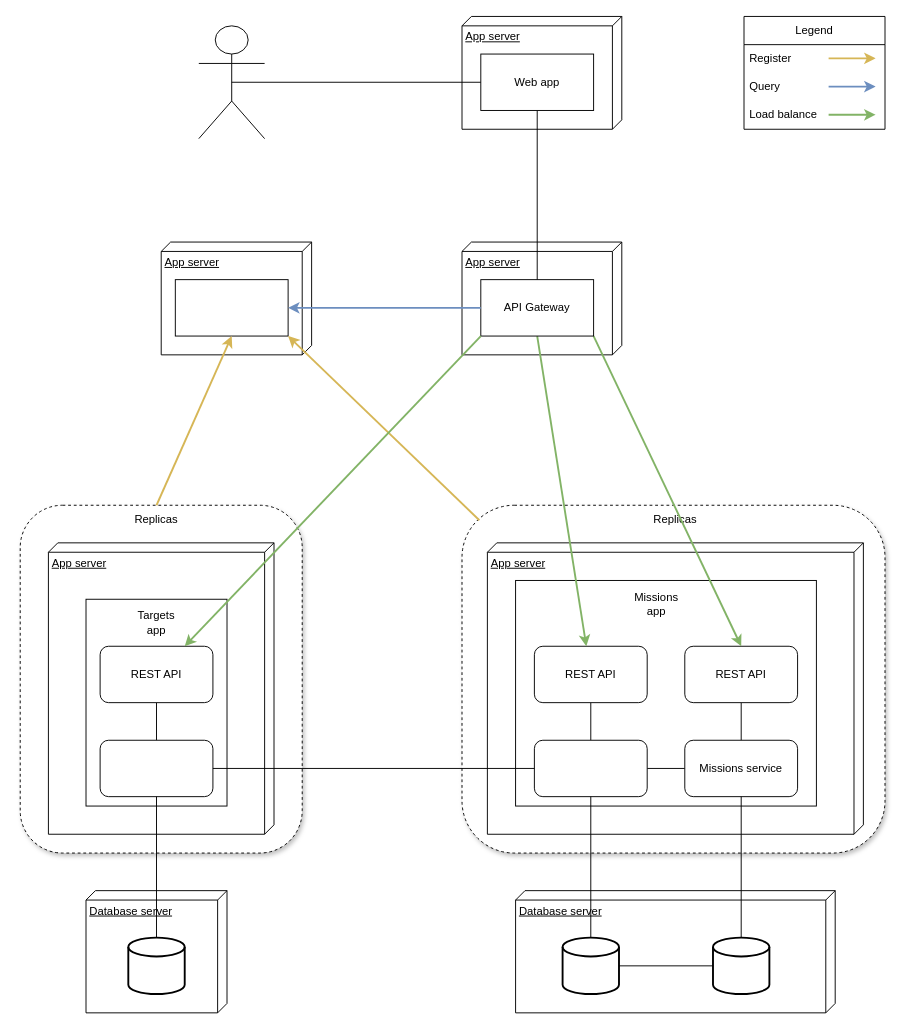
Some shapes in this 907 by 1029 pixel diagram are drawn without their labels. The centre of each missing label's shape, as x and y in pixels:
"Discovery service" belongs at (x=231, y=307).
"missions" belongs at (x=741, y=965).
"MockTargets service" belongs at (x=590, y=768).
"targest" belongs at (x=590, y=965).
"targets" belongs at (x=156, y=965).
"Targets service" belongs at (x=156, y=768).
"User" belongs at (x=231, y=82).
